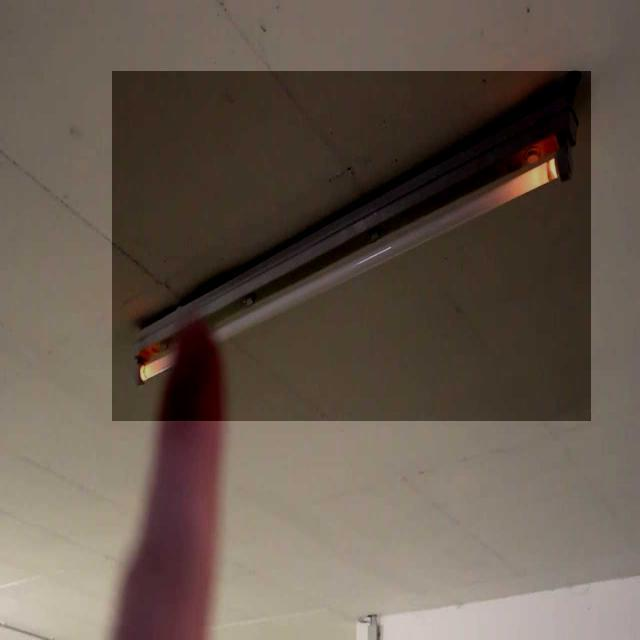light: (129, 77, 579, 384)
